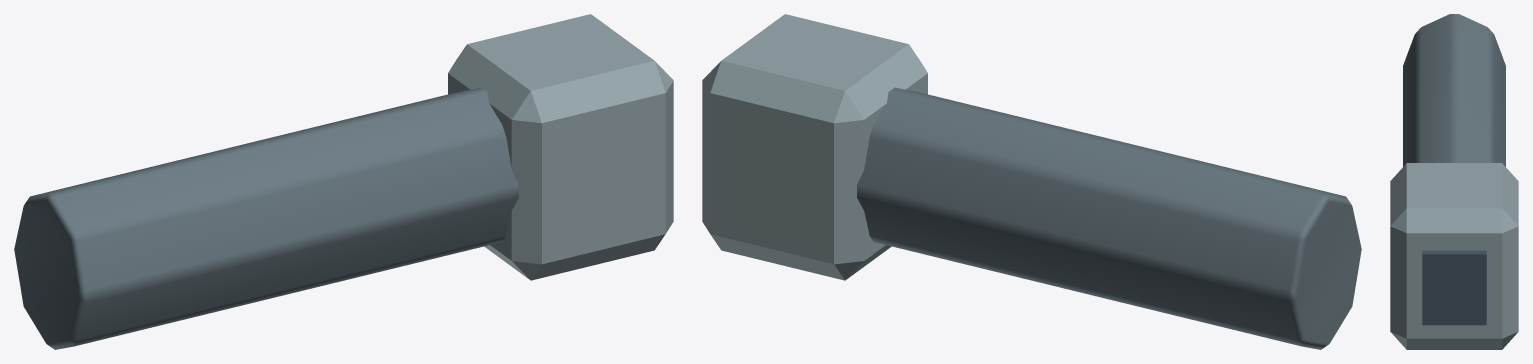
The model's file is SM_Ember_Weapon.fbx.
3 renders of one model, left to right at view 1: azimuth 30°, elevation 25°; view 2: azimuth 150°, elevation 25°; view 3: azimuth 270°, elevation 25°, orthographic. The views are drawn at different scales.
Visible parts, largest first — view 1: SM_Ember_Weapon; view 2: SM_Ember_Weapon; view 3: SM_Ember_Weapon.
Boxes of the visible parts, x1,y1,x2,y2 form: SM_Ember_Weapon: (14,14,673,349); SM_Ember_Weapon: (702,14,1361,349); SM_Ember_Weapon: (1390,14,1518,349).
Bounding box in the file's own units: 19.62 × 4.81 × 5.87.
